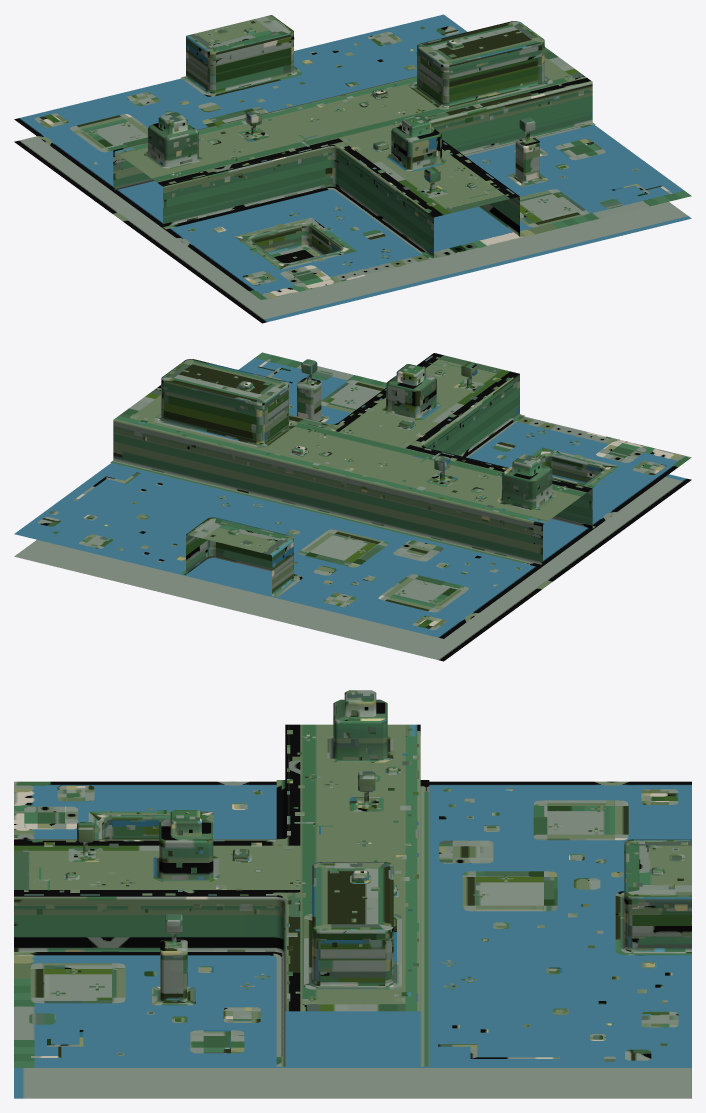
Rendered from C_cave2_09.fbx.
3 renders of one model, top to bottom at view 1: azimuth 30°, elevation 25°; view 2: azimuth 150°, elevation 25°; view 3: azimuth 270°, elevation 25°, orthographic. The views are drawn at different scales.
Parts seen in each view (by area): view 1: model; view 2: model; view 3: model.
Part boxes in pixels (bbox=[...]): model: bbox=[14, 14, 691, 323]; model: bbox=[14, 352, 691, 661]; model: bbox=[14, 690, 691, 1098].
Bounding box in the file's own units: 50 × 12.38 × 50.
